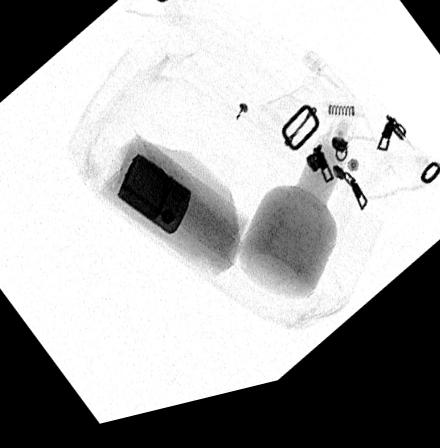Lighter: (116, 160, 192, 244)
